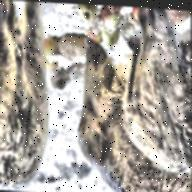boar: (66, 3, 192, 192), (122, 15, 192, 180), (0, 2, 56, 192)
